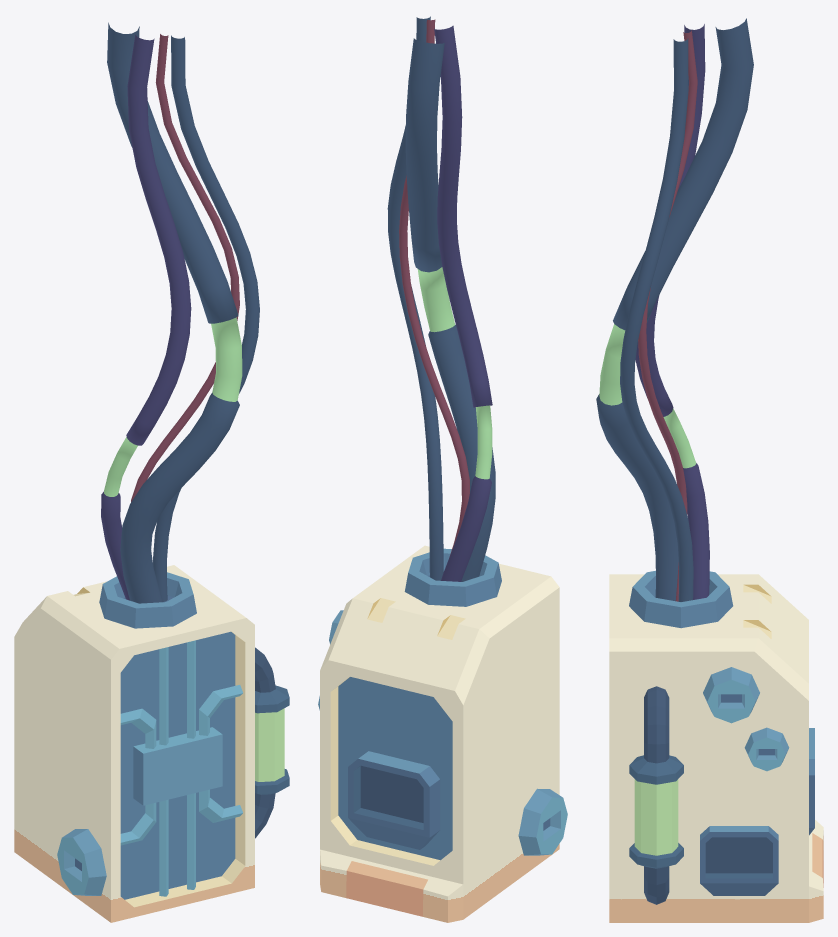
File: NPC.glb
3 renders of one model, left to right at view 1: azimuth 30°, elevation 25°; view 2: azimuth 150°, elevation 25°; view 3: azimuth 270°, elevation 25°, orthographic. The views are drawn at different scales.
Parts seen in each view (by area): view 1: bot-a; view 2: bot-a; view 3: bot-a.
Part boxes in pixels (x1,y1,x2,y2): bot-a: (14, 22, 289, 922); bot-a: (318, 16, 567, 922); bot-a: (596, 18, 823, 922).
Size of the model in its own units: 1.88 by 7.08 by 1.68.
1 material, 1 textured.
